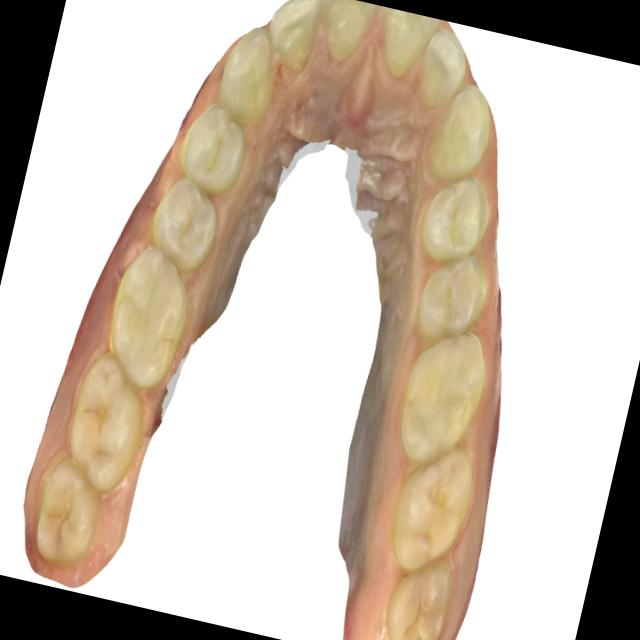tooth: (378, 313, 505, 484), (89, 227, 211, 402), (45, 338, 168, 510), (373, 438, 491, 596), (15, 433, 122, 581), (130, 159, 241, 288), (403, 156, 509, 286), (204, 11, 304, 144), (168, 83, 274, 208), (404, 233, 508, 357), (417, 60, 511, 197), (368, 536, 473, 640), (402, 16, 479, 136), (357, 4, 443, 103), (249, 0, 334, 91), (297, 0, 385, 77)
